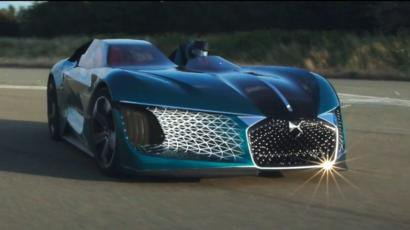car: (45, 33, 349, 178)
